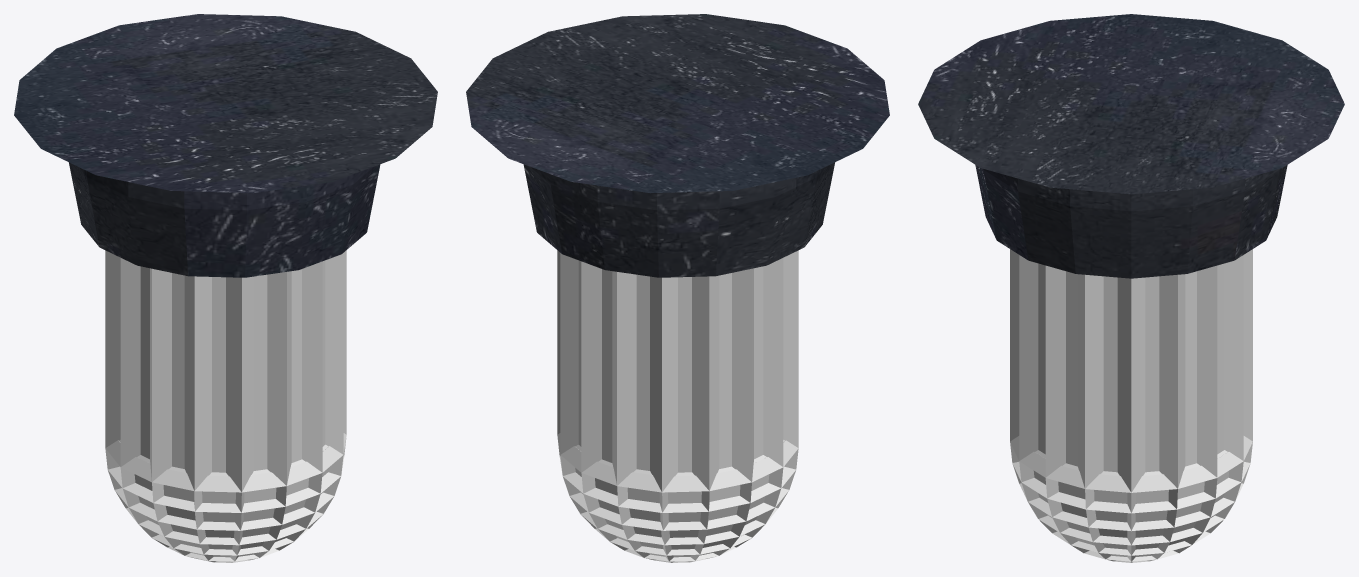
Rendered from bulkheadlight.glb.
3 views of the same model, side by side, from view 1: azimuth 30°, elevation 25°; view 2: azimuth 150°, elevation 25°; view 3: azimuth 270°, elevation 25° (orthographic).
Visible parts, largest first — view 1: Cylinder; view 2: Cylinder; view 3: Cylinder.
Boxes of the visible parts, <box> form: Cylinder: <box>14,14,437,562</box>; Cylinder: <box>466,14,889,562</box>; Cylinder: <box>918,14,1344,562</box>.
Bounding box in the file's own units: 0.2635 × 0.3048 × 0.2635.
Materials: 2 (1 with a texture image).
